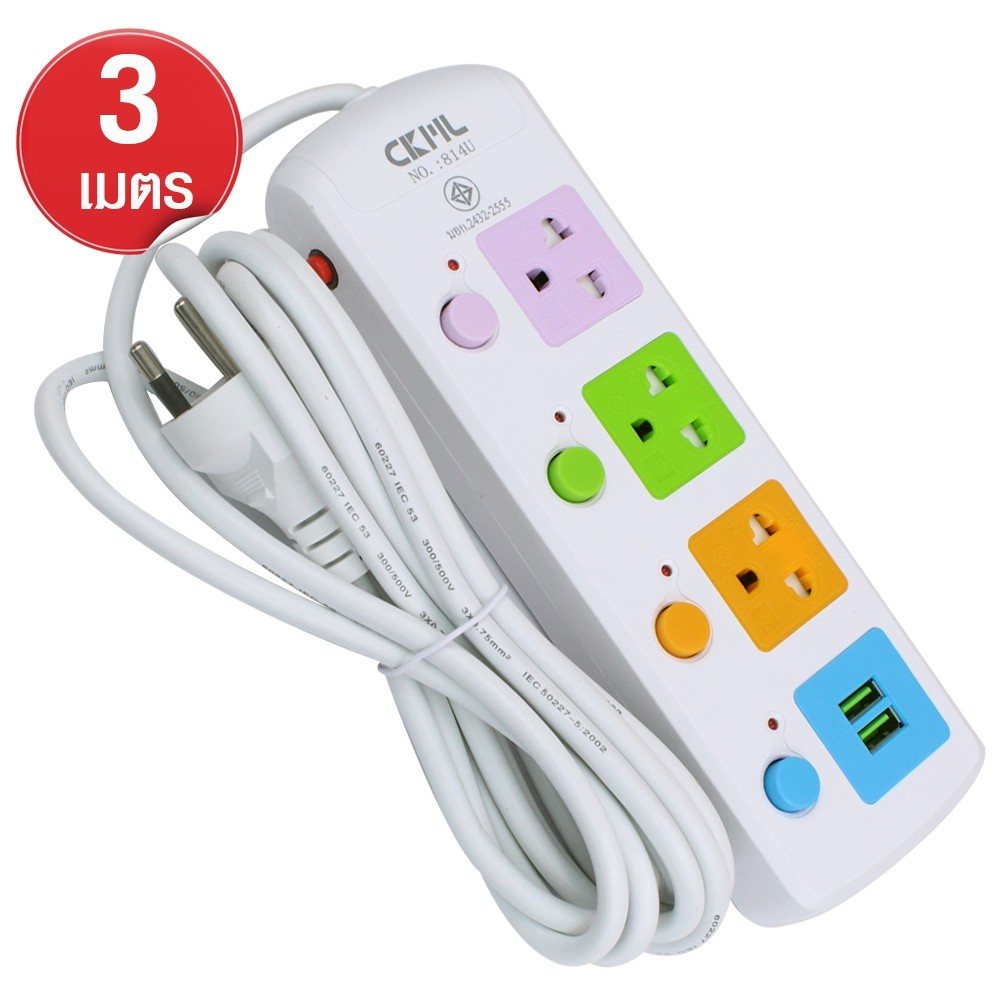Three_eye_plug: (223, 54, 999, 952)
